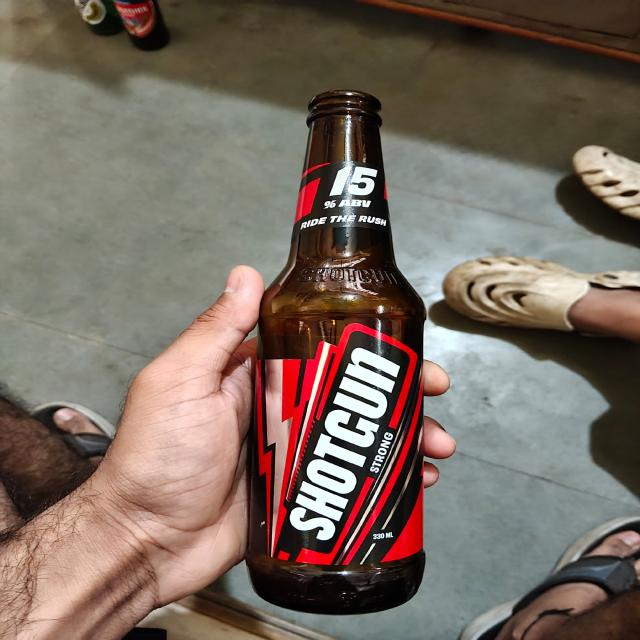Alcohol-Bottle-Detection: (244, 82, 437, 619)
